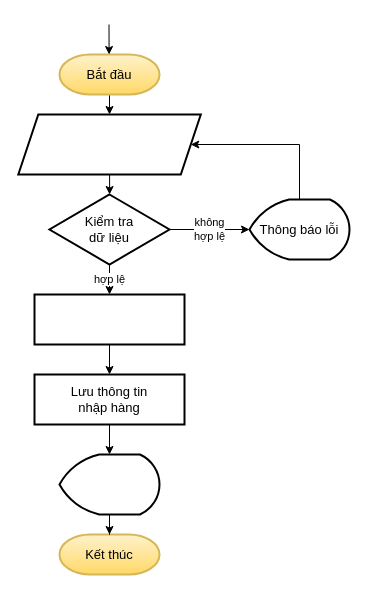
Image size: 368x593. Some labels were removed from this diagram. Each missing label, with the centre of its shape:
Cập nhật số lượng mới: (x=109, y=319)
id sản phẩm, id cửa hàng, số lượng nhập: (x=109, y=144)
Thông báo thành công: (x=109, y=484)
